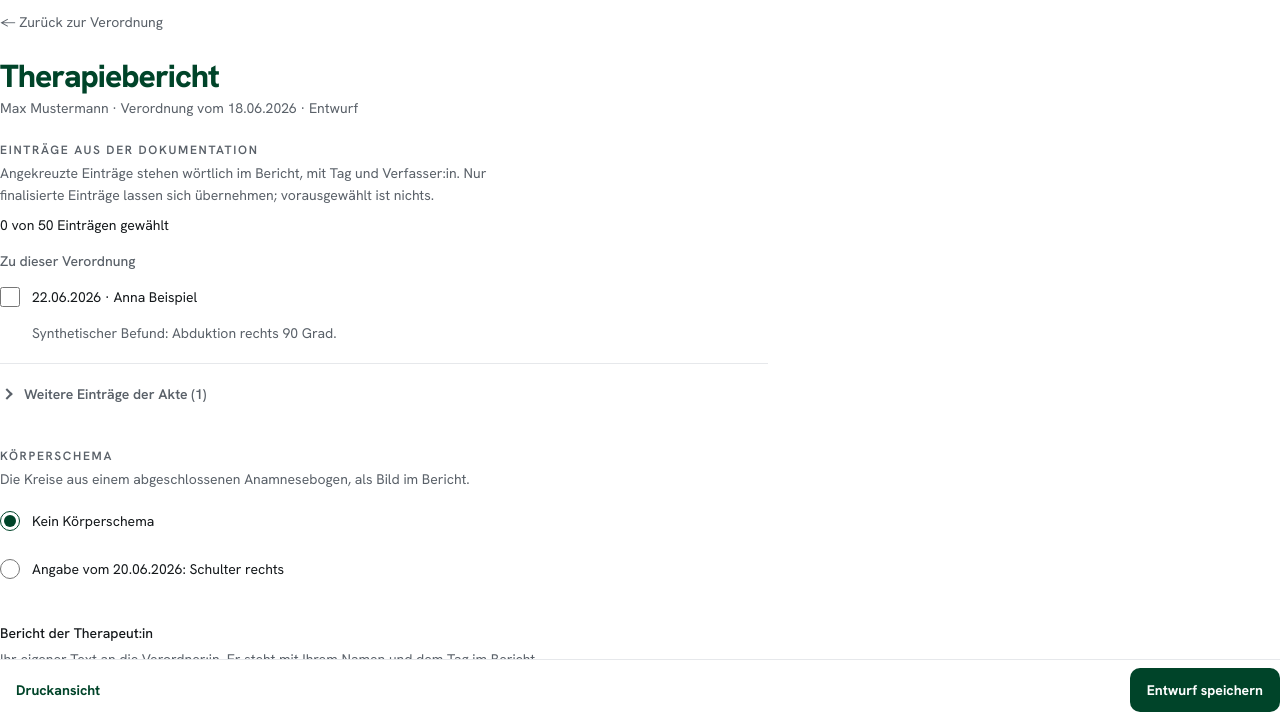
Test: Therapiebericht: Schutz ungespeicherter Änderungen › fragt auch vor einer geänderten Auswahl ohne Text
The image size is (1280, 720).
Click the checkbox labelled "22.06.2026 · Anna Beispiel": click(10, 297) [0, 287, 20, 307]
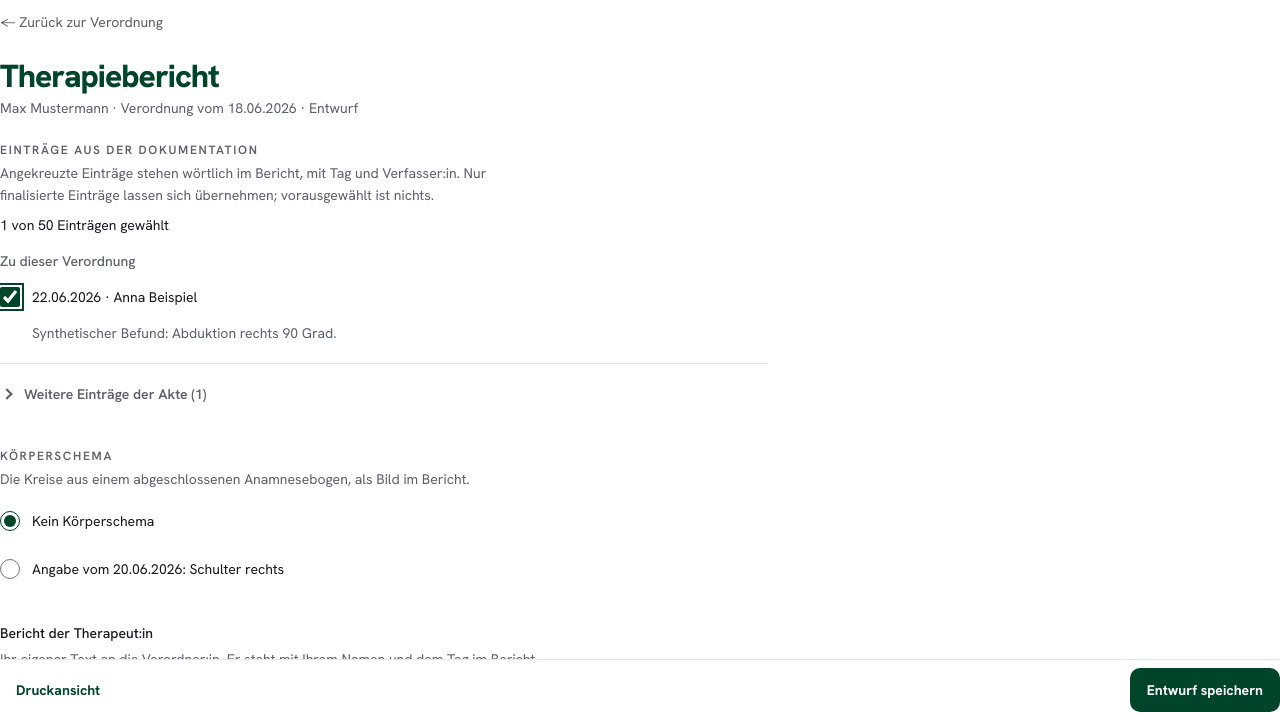
Click the link "← Zurück zur Verordnung": click(82, 22) [0, 13, 163, 31]
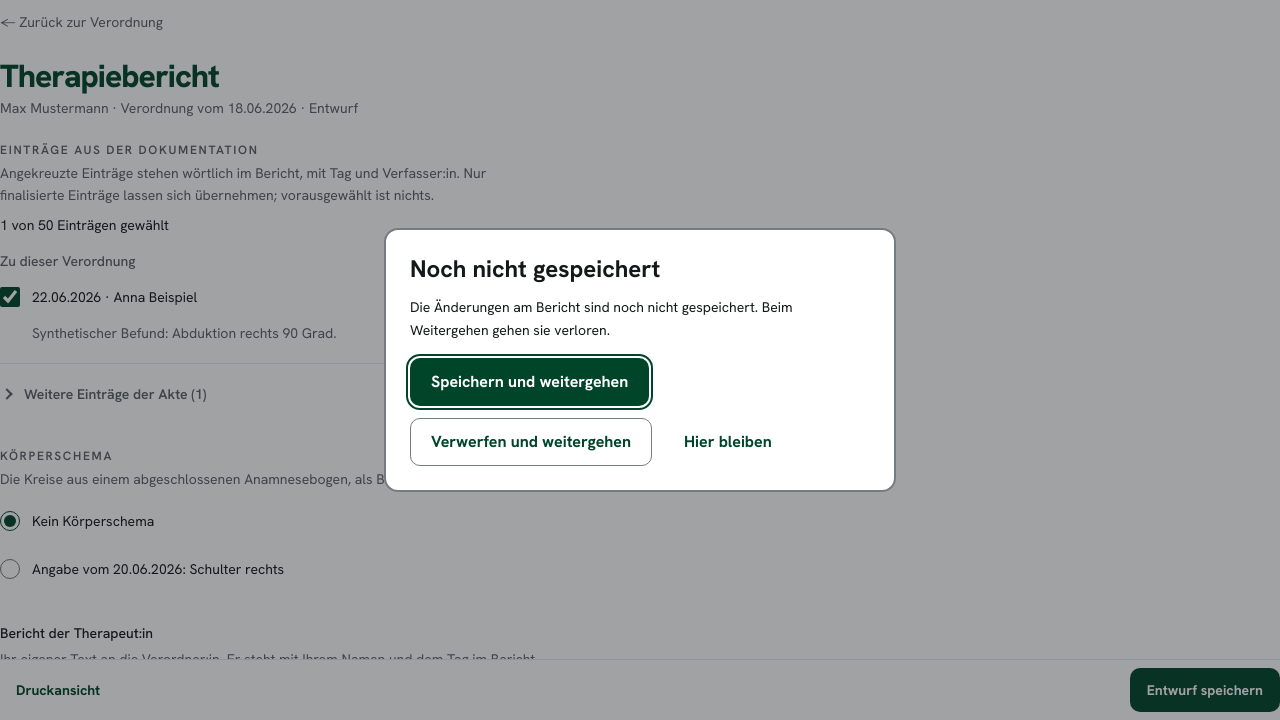
Result: the element named "Ungespeicherter Bericht" is shown at [410, 298, 792, 466]
